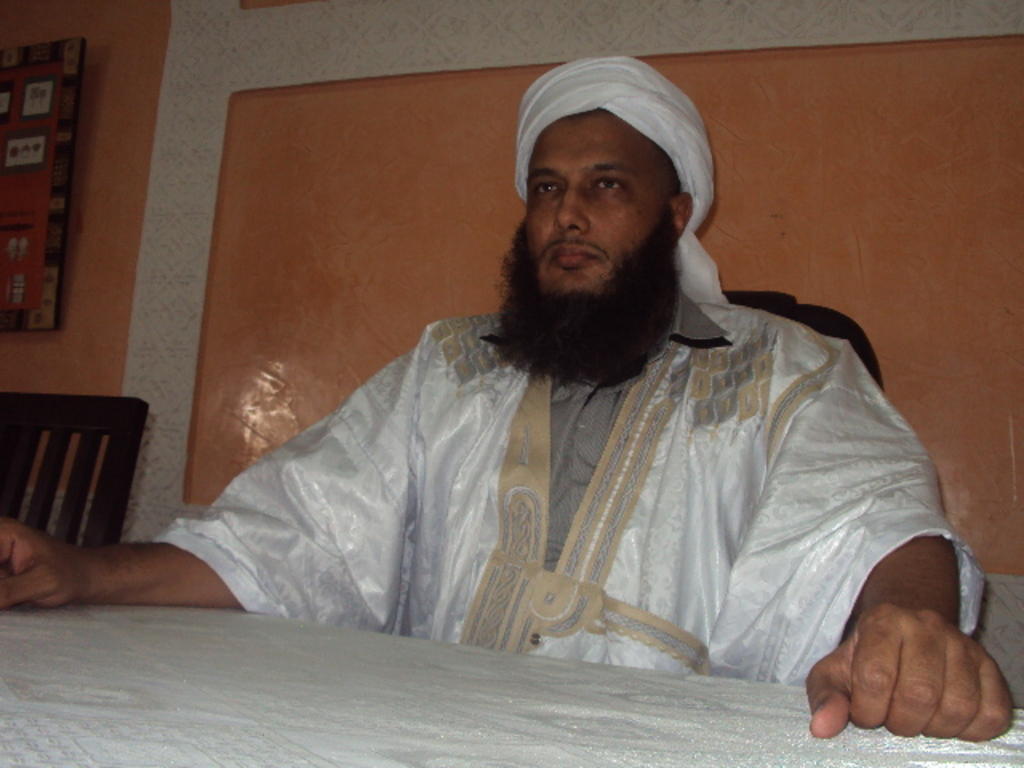Human_hand: (806, 600, 1022, 737), (0, 515, 83, 607)
